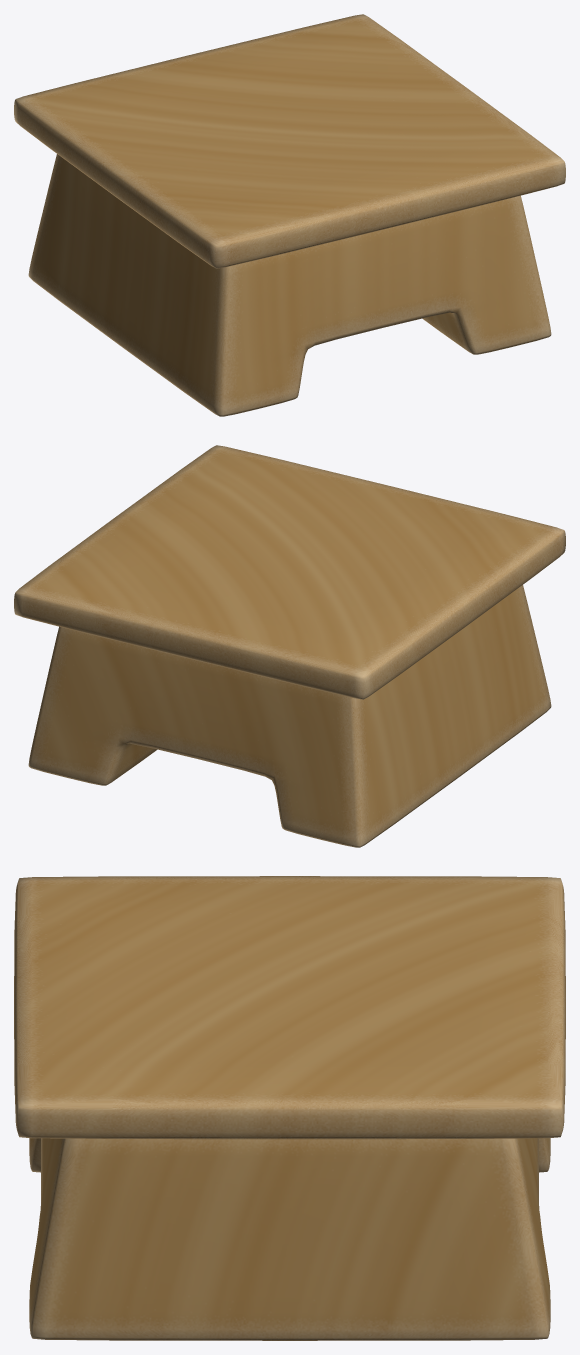
Rendered from cook_table.fbx.
3 renders of one model, top to bottom at view 1: azimuth 30°, elevation 25°; view 2: azimuth 150°, elevation 25°; view 3: azimuth 270°, elevation 25°, orthographic. The views are drawn at different scales.
Parts seen in each view (by area): view 1: Cube.002; view 2: Cube.002; view 3: Cube.002.
Boxes of the visible parts, x1,y1,x2,y2 form: Cube.002: [14, 14, 565, 416]; Cube.002: [14, 445, 565, 847]; Cube.002: [14, 876, 565, 1340].
Size of the model in its own units: 200 by 98.64 by 200.
1 material, 1 textured.
